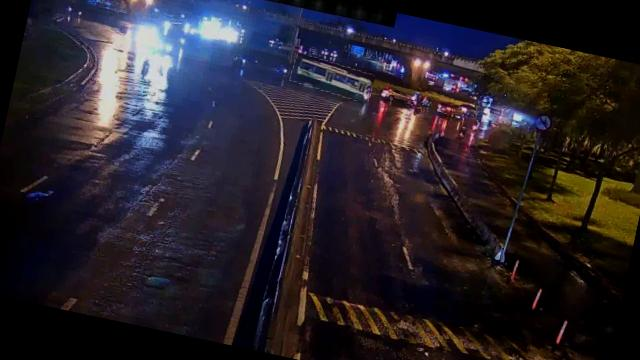Bike: (136, 56, 155, 81)
Bus: (289, 55, 376, 102)
